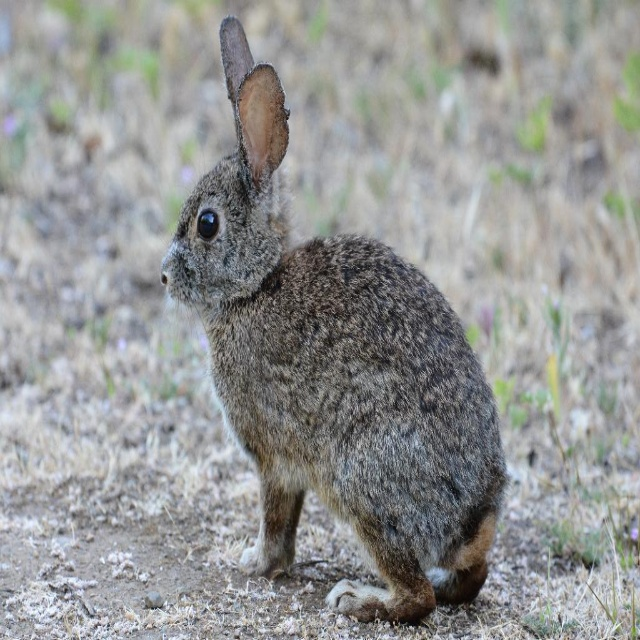Rabbit: (156, 13, 509, 623)
